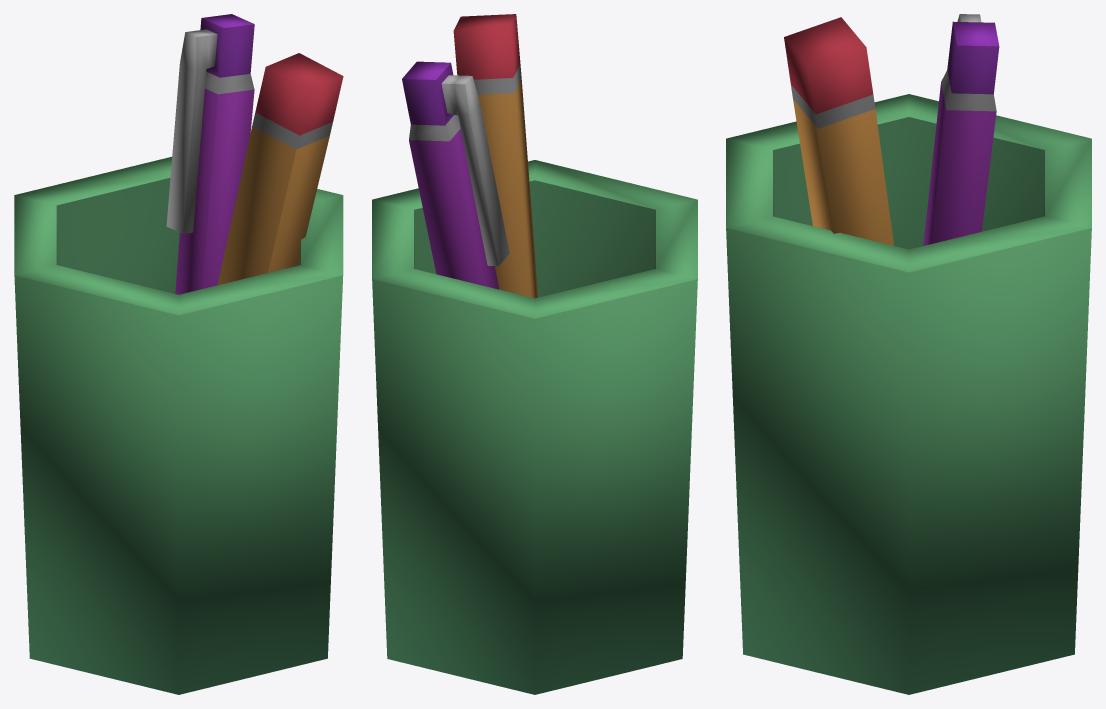
File: PencilCup2.fbx
3 renders of one model, left to right at view 1: azimuth 30°, elevation 25°; view 2: azimuth 150°, elevation 25°; view 3: azimuth 270°, elevation 25°, orthographic. The views are drawn at different scales.
Parts seen in each view (by area): view 1: PencilCup1; view 2: PencilCup1; view 3: PencilCup1.
Part boxes in pixels (left/top/right/bottom): PencilCup1: left=14, top=14, right=343, bottom=694; PencilCup1: left=372, top=14, right=697, bottom=694; PencilCup1: left=726, top=14, right=1091, bottom=694.
Size of the model in its own units: 24.83 by 41.06 by 21.5.
